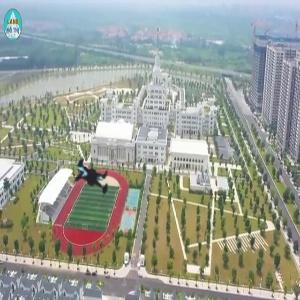drone: (52, 138, 133, 219)
